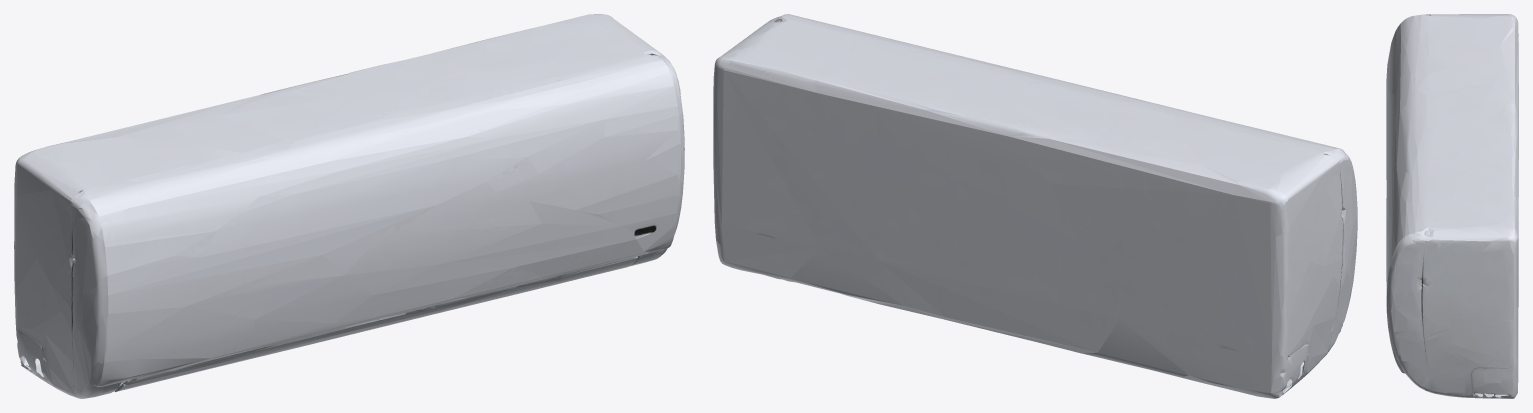
The model's file is w51aircon.glb.
The picture shows the model from 3 angles, left to right: view 1: azimuth 30°, elevation 25°; view 2: azimuth 150°, elevation 25°; view 3: azimuth 270°, elevation 25°; orthographic projection. The views are drawn at different scales.
Parts seen in each view (by area): view 1: output_unwrapped; view 2: output_unwrapped; view 3: output_unwrapped.
Boxes of the visible parts, x1=… form: output_unwrapped: x1=14, y1=14, x2=684, y2=398; output_unwrapped: x1=713, y1=14, x2=1357, y2=398; output_unwrapped: x1=1386, y1=14, x2=1518, y2=398.
Size of the model in its own units: 0.9 by 0.3129 by 0.2215.
1 material, 1 textured.
